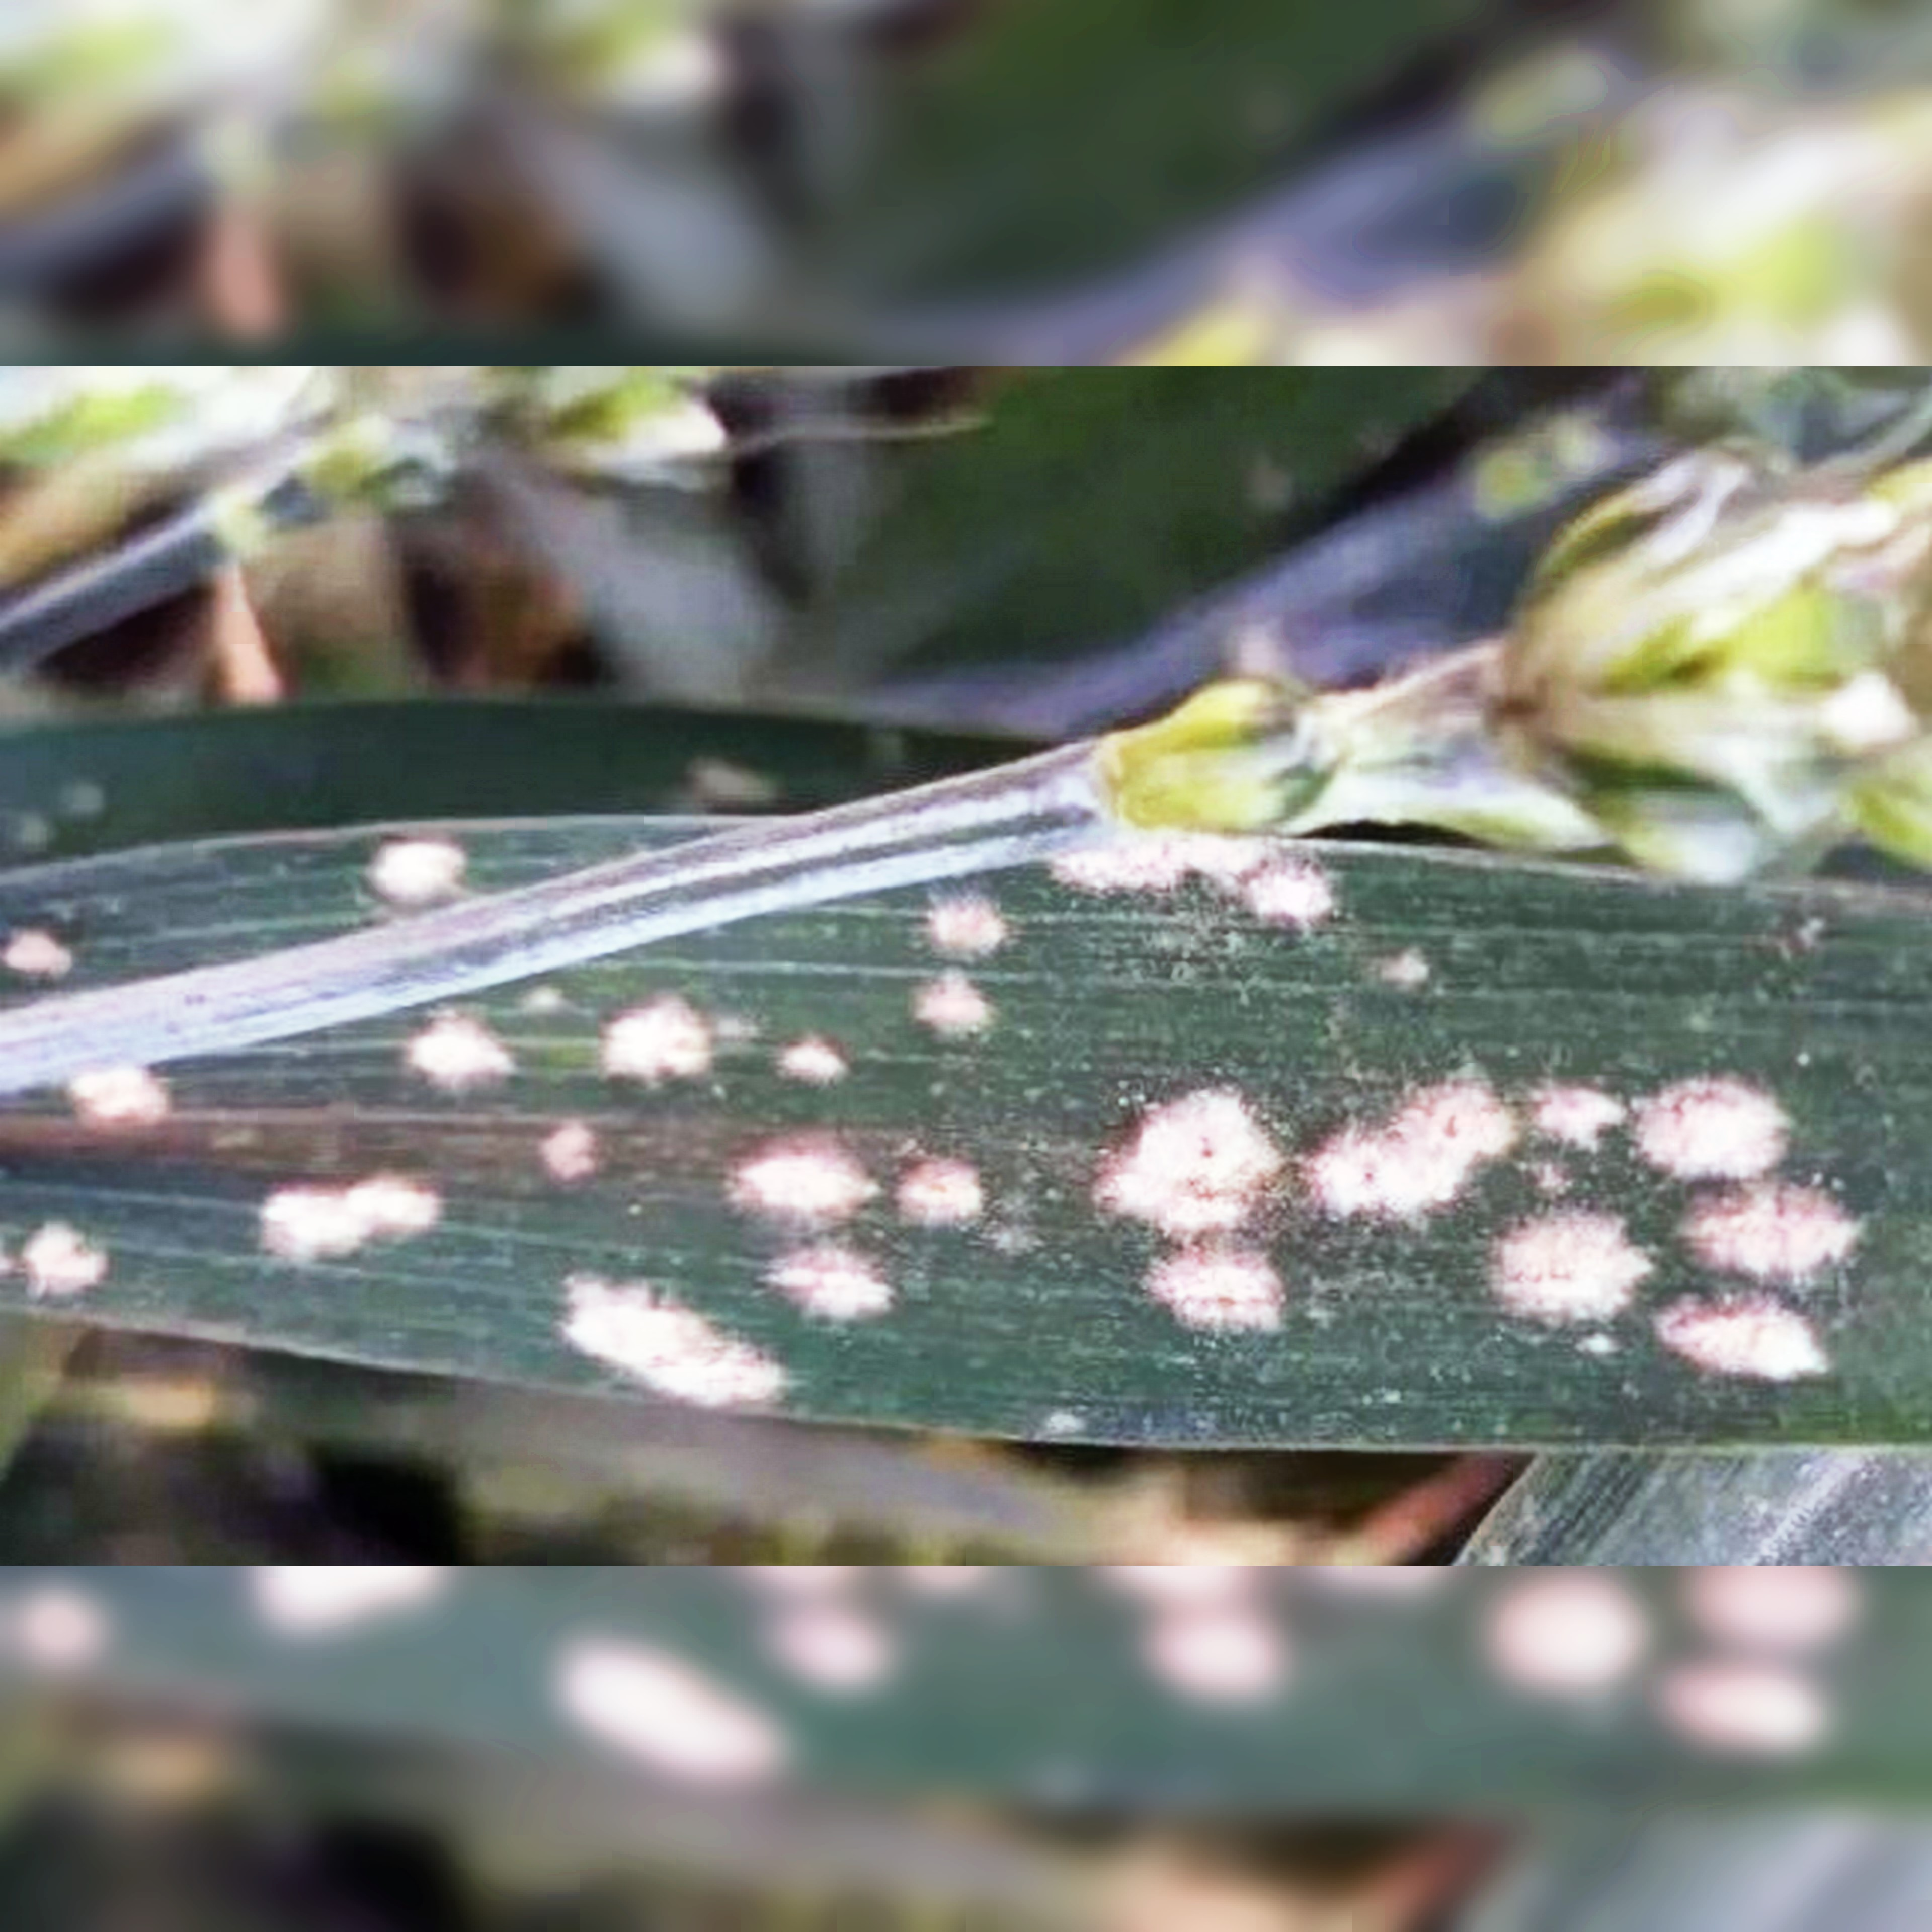Powdery Mildew: (225, 847, 1872, 1447)
